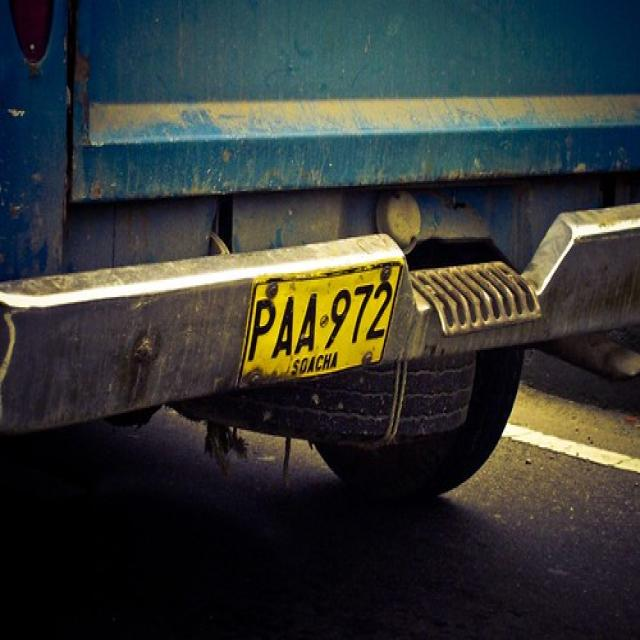placas: (243, 262, 402, 362)
